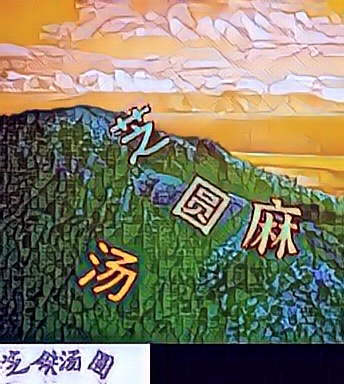C2E9: (239, 194, 301, 258)
CCC0: (78, 241, 140, 305)
D4B2: (170, 174, 232, 238)
D6A5: (110, 101, 172, 165)
